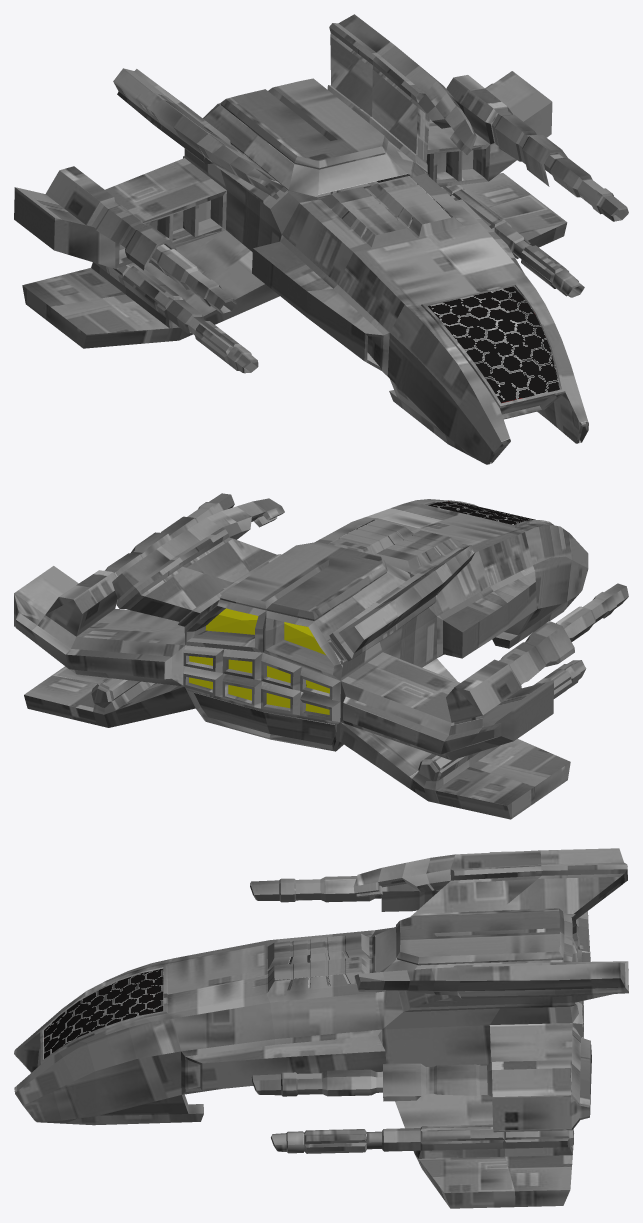
3 renders of one model, top to bottom at view 1: azimuth 30°, elevation 25°; view 2: azimuth 150°, elevation 25°; view 3: azimuth 270°, elevation 25°, orthographic.
Visible parts, largest first — view 1: ms_Object007.001; view 2: ms_Object007.001; view 3: ms_Object007.001.
Boxes of the visible parts, x1,y1,x2,y2 form: ms_Object007.001: [14, 14, 628, 464]; ms_Object007.001: [14, 493, 628, 819]; ms_Object007.001: [14, 848, 628, 1208].
Size of the model in its own units: 700 by 265 by 757.
